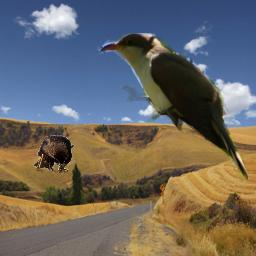Crow: (33, 135, 75, 173)
Cuckoo: (97, 33, 248, 183)
